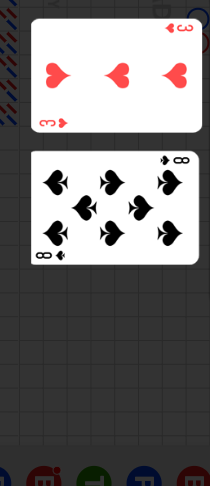10S: (34, 248, 68, 261)
3H: (162, 22, 194, 35)
